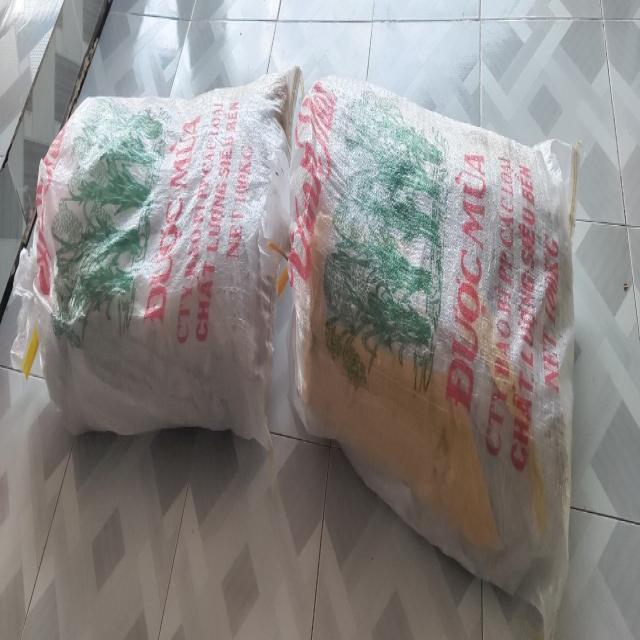gunny_bag: (289, 75, 578, 634), (11, 66, 300, 448)
